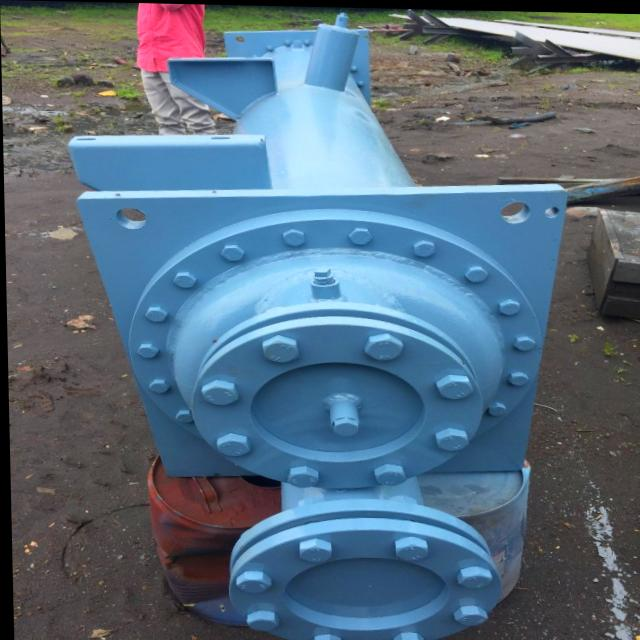Regular bolt: (262, 334, 299, 363), (365, 332, 403, 360), (435, 372, 473, 399), (202, 379, 238, 406), (393, 535, 428, 561), (234, 570, 271, 593), (434, 425, 468, 450), (215, 433, 250, 457), (299, 537, 331, 563), (455, 564, 491, 587), (244, 610, 277, 633), (372, 463, 404, 485), (286, 465, 318, 487), (452, 604, 486, 624), (333, 417, 359, 436), (348, 227, 372, 244), (414, 239, 436, 257), (174, 272, 197, 289), (282, 229, 305, 246), (464, 265, 487, 281), (145, 307, 167, 323), (221, 245, 243, 261), (513, 334, 535, 350), (499, 298, 520, 314), (508, 370, 529, 385), (390, 631, 423, 640), (148, 380, 169, 394), (488, 401, 507, 416), (138, 344, 158, 358), (175, 410, 191, 424), (308, 635, 341, 640)
